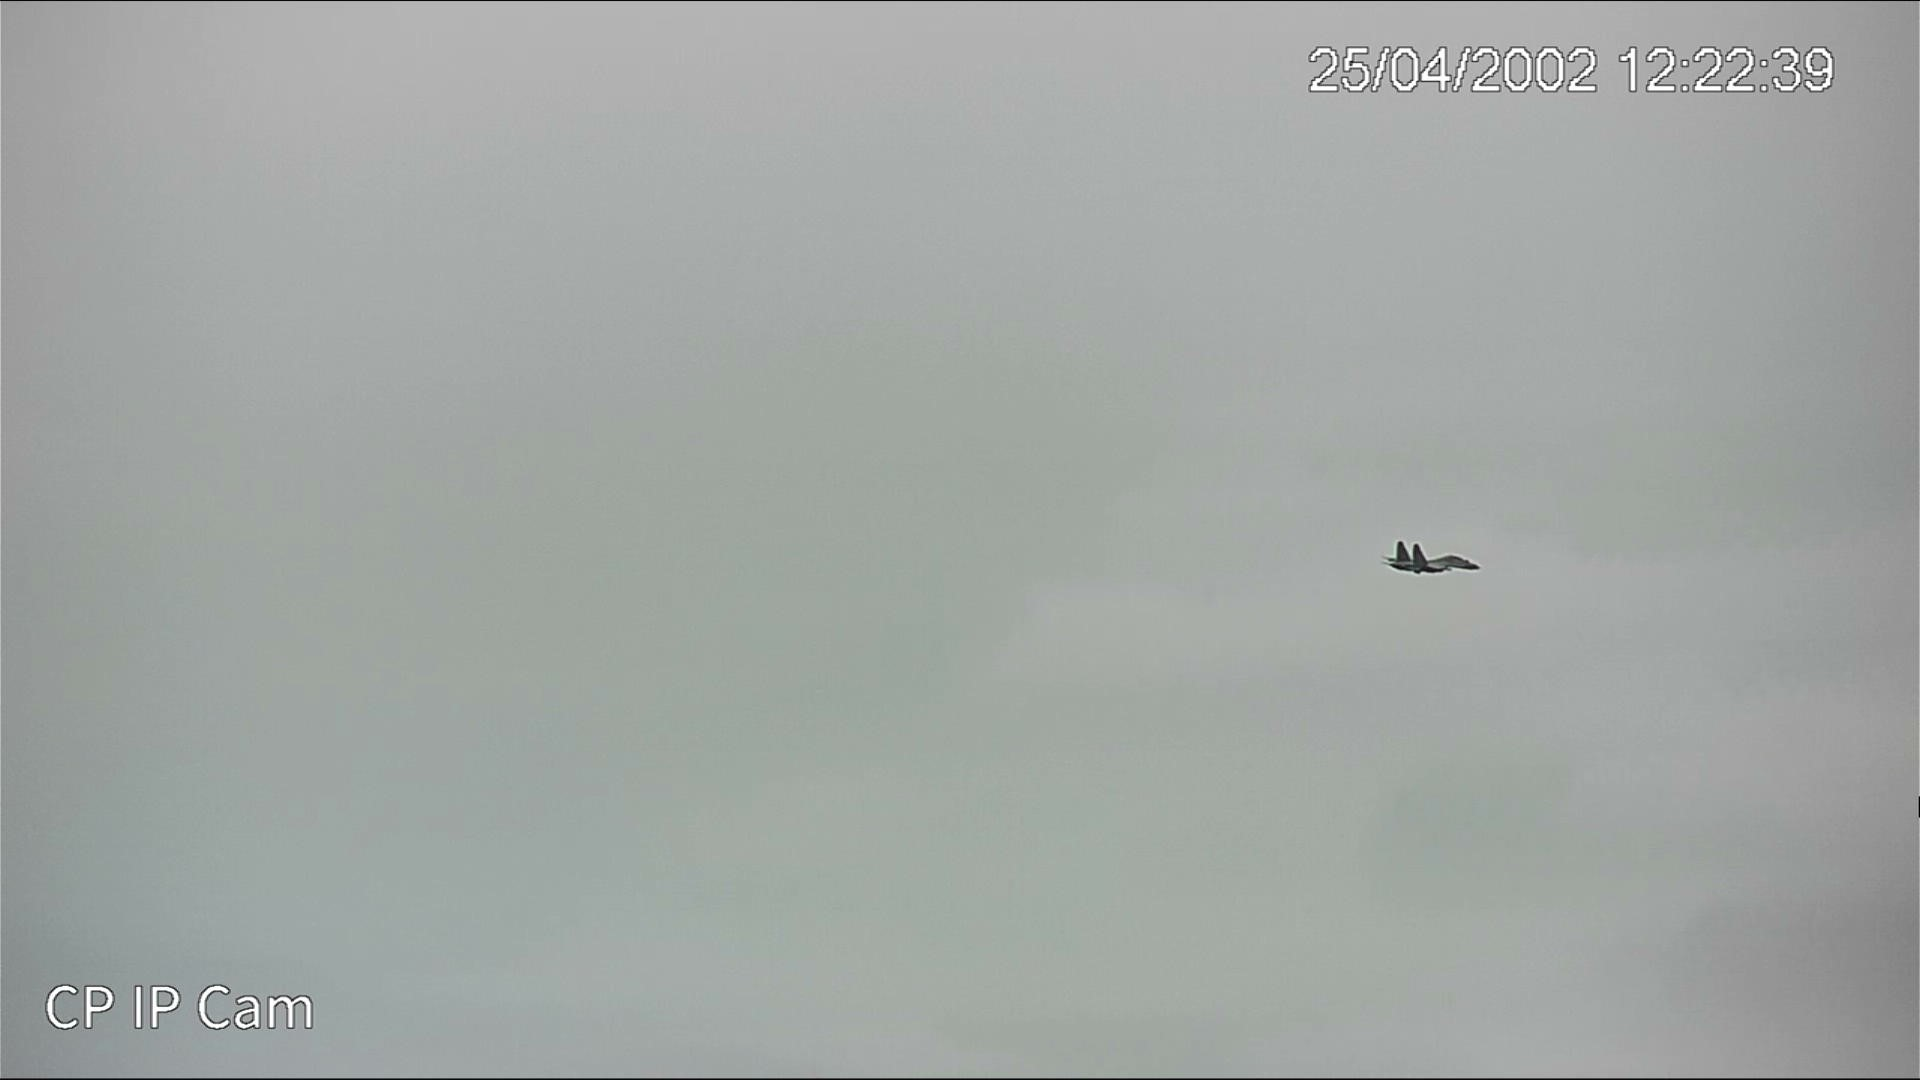SU_30: (1383, 541, 1484, 582)
